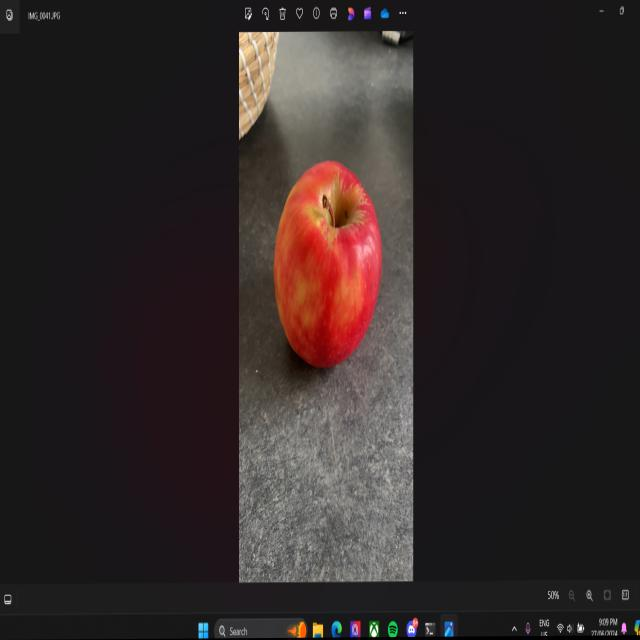Apple: (274, 161, 381, 368)
